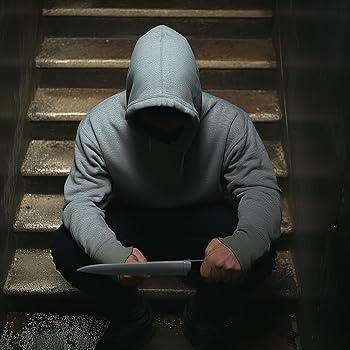Knife: (50, 25, 284, 350), (78, 258, 203, 276), (200, 239, 252, 281)
